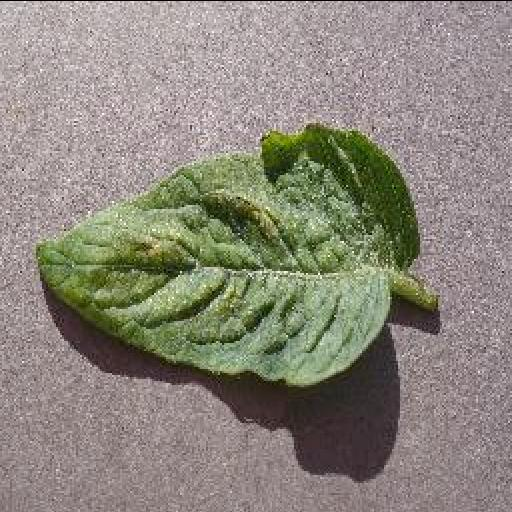disease_tomato: (34, 118, 424, 386)
